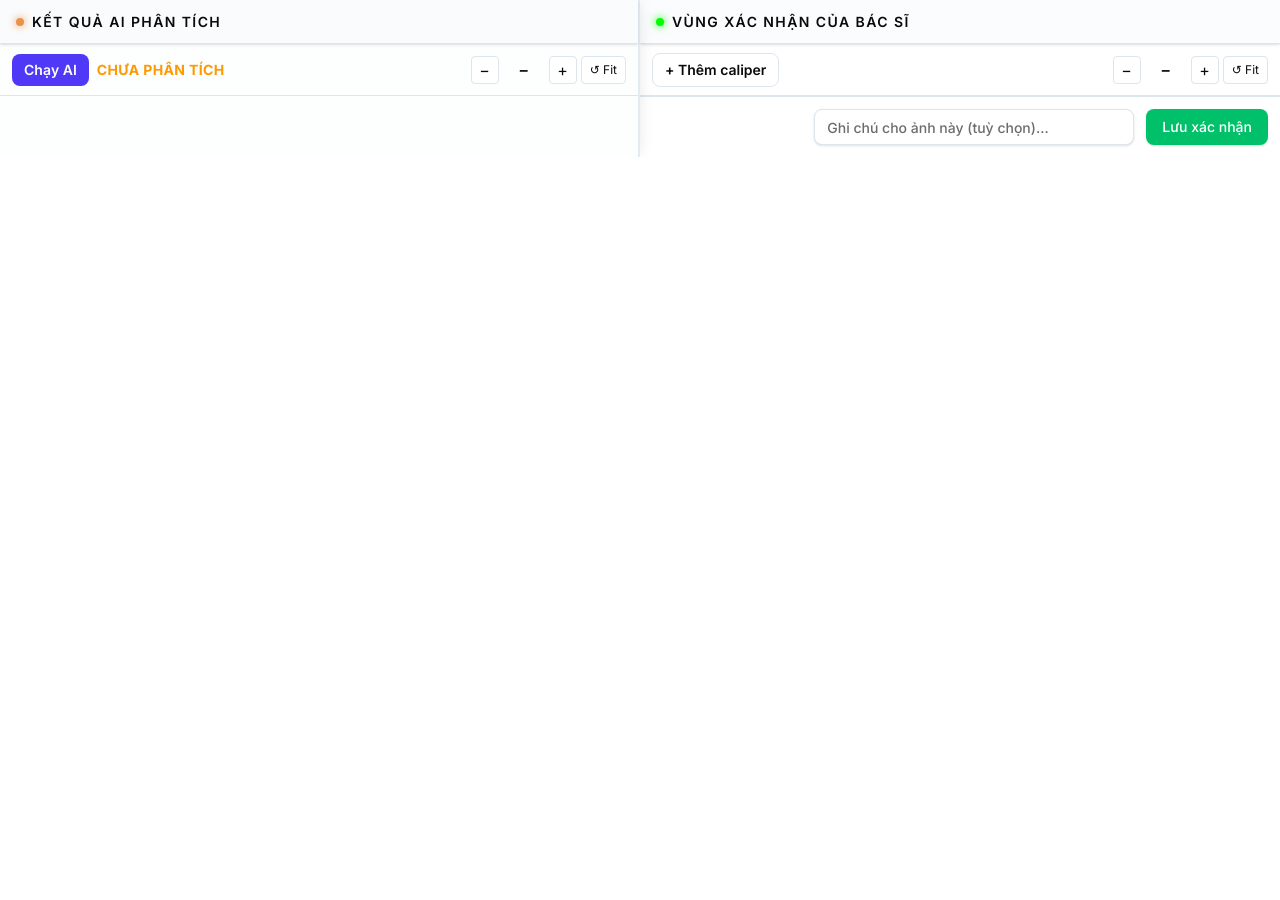
Test: DiagnosticCanvas › lưu xác nhận khi caliper chưa cắt nhau thì hiện toast lỗi, KHÔNG gọi confirmAnalysis
This screenshot has width=1280, height=900.
Click the button "Lưu xác nhận": [1207, 127] box [1146, 109, 1268, 145]
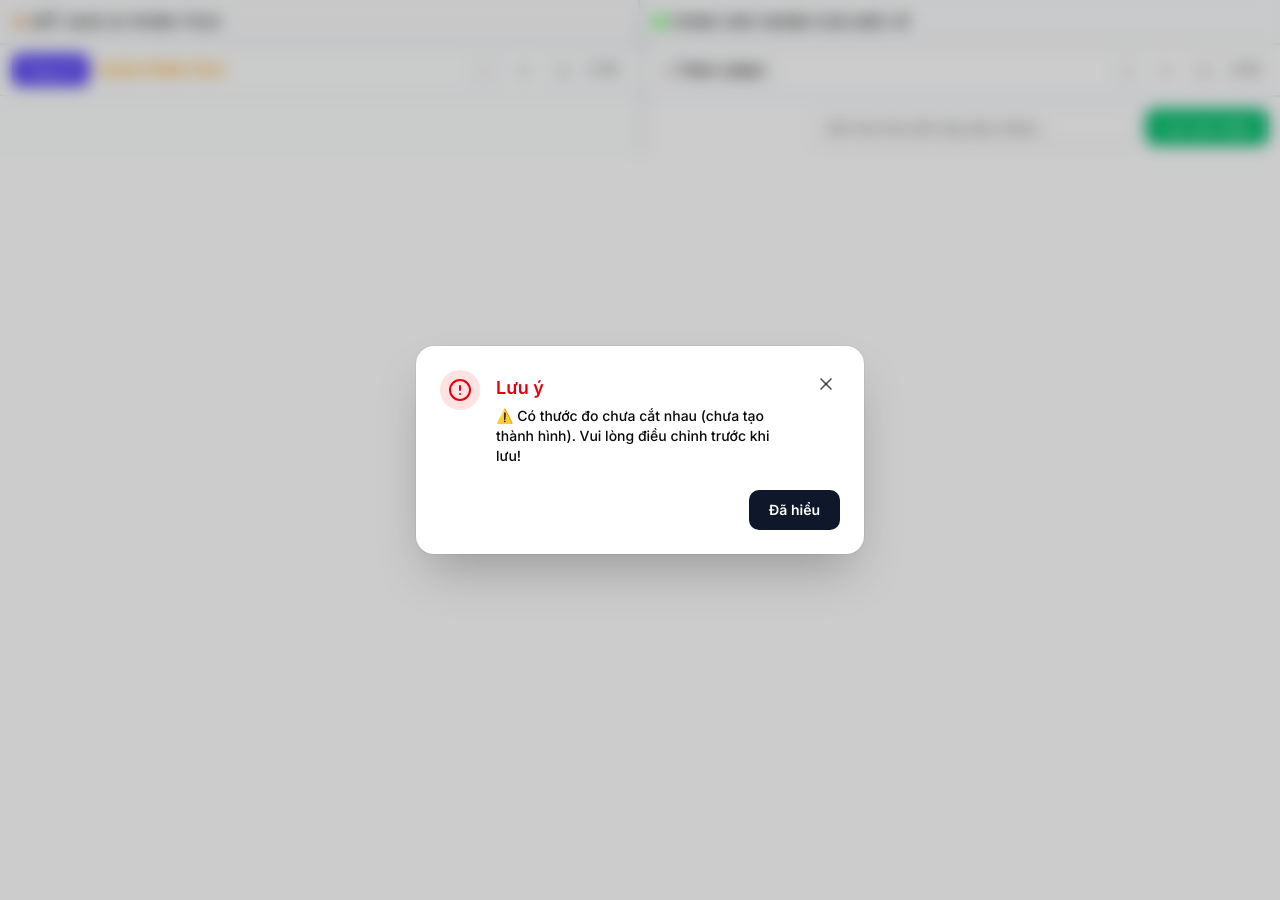
expect the text "chưa cắt nhau" is shown: met, box [496, 407, 770, 464]
